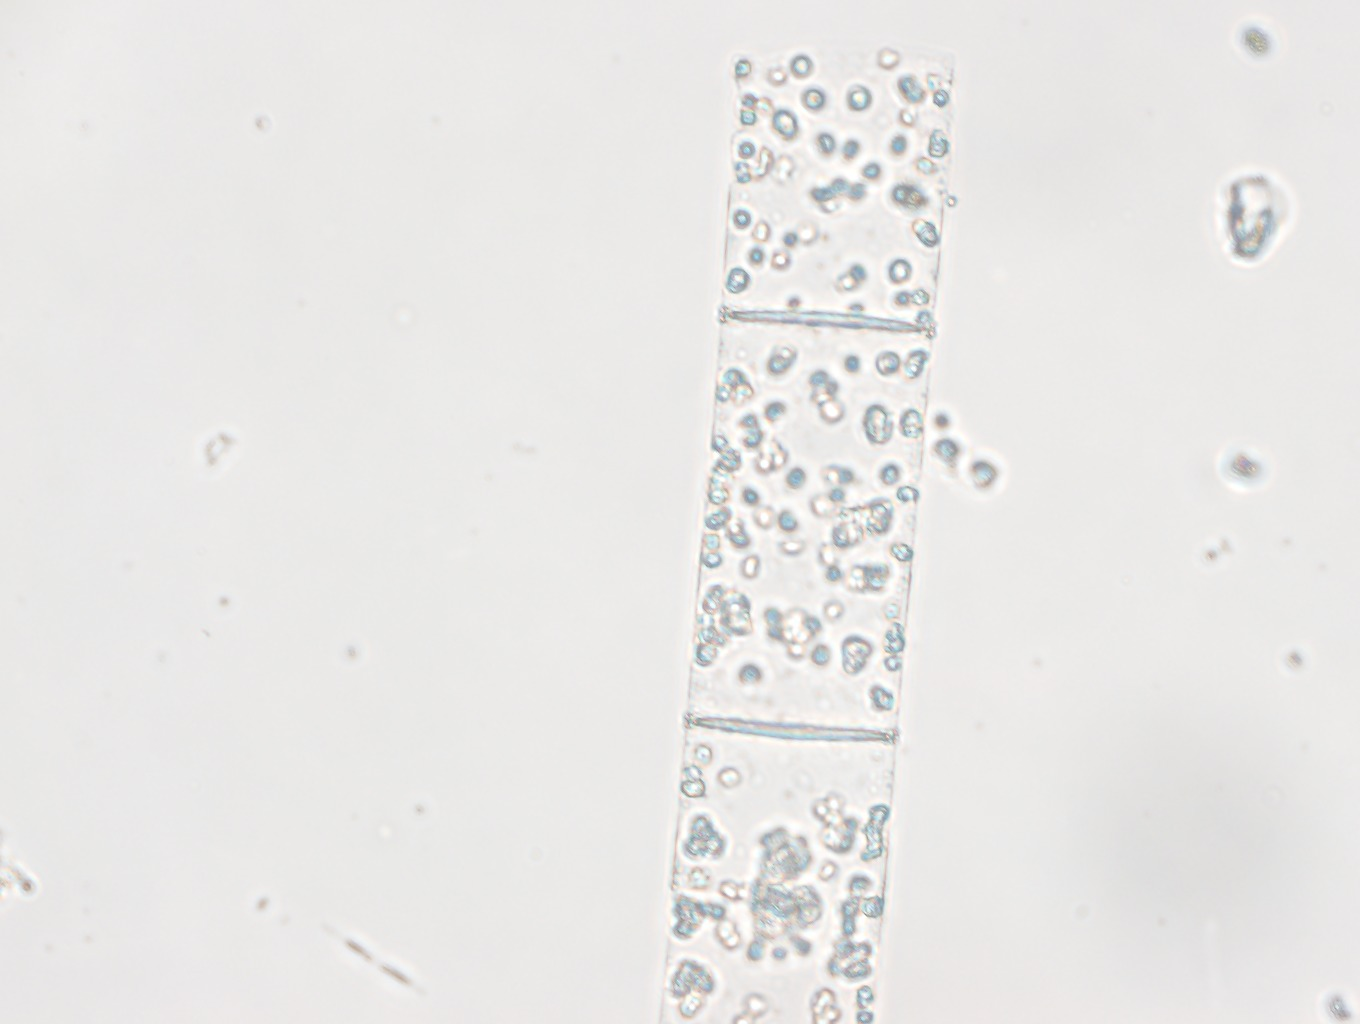guinardia flaccida: (658, 41, 957, 1023)
